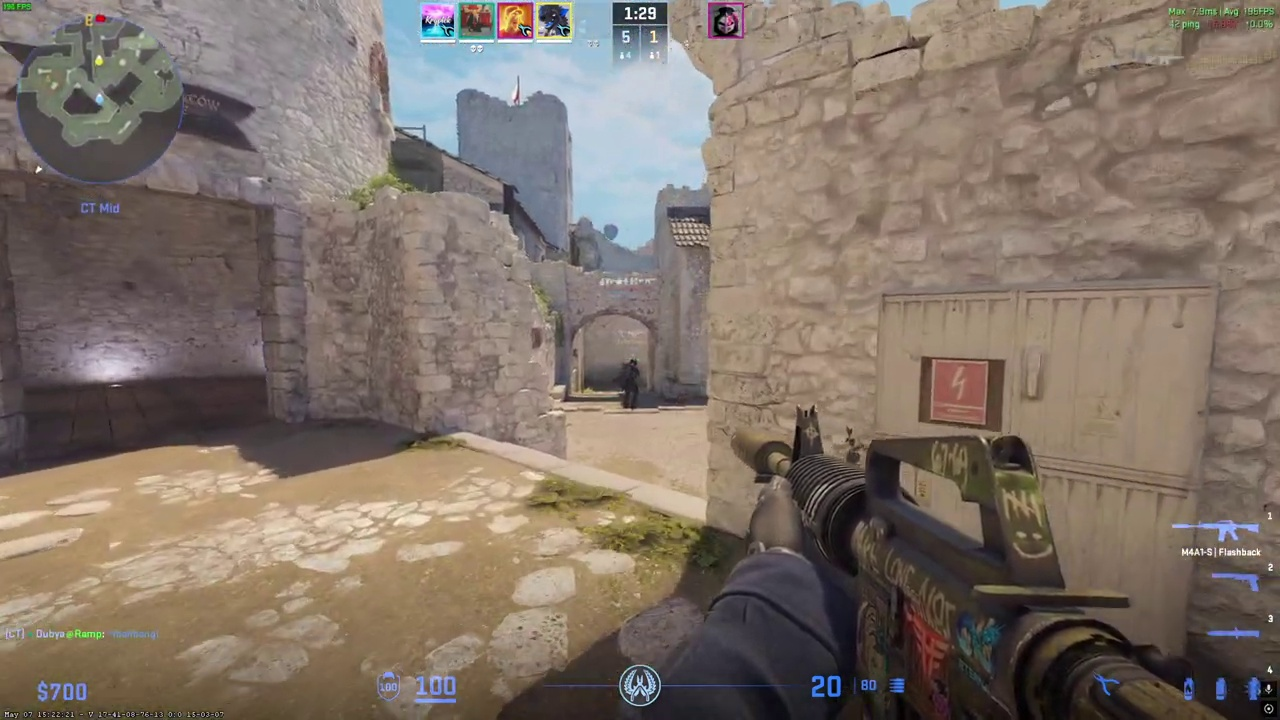CT: (619, 358, 641, 410)
